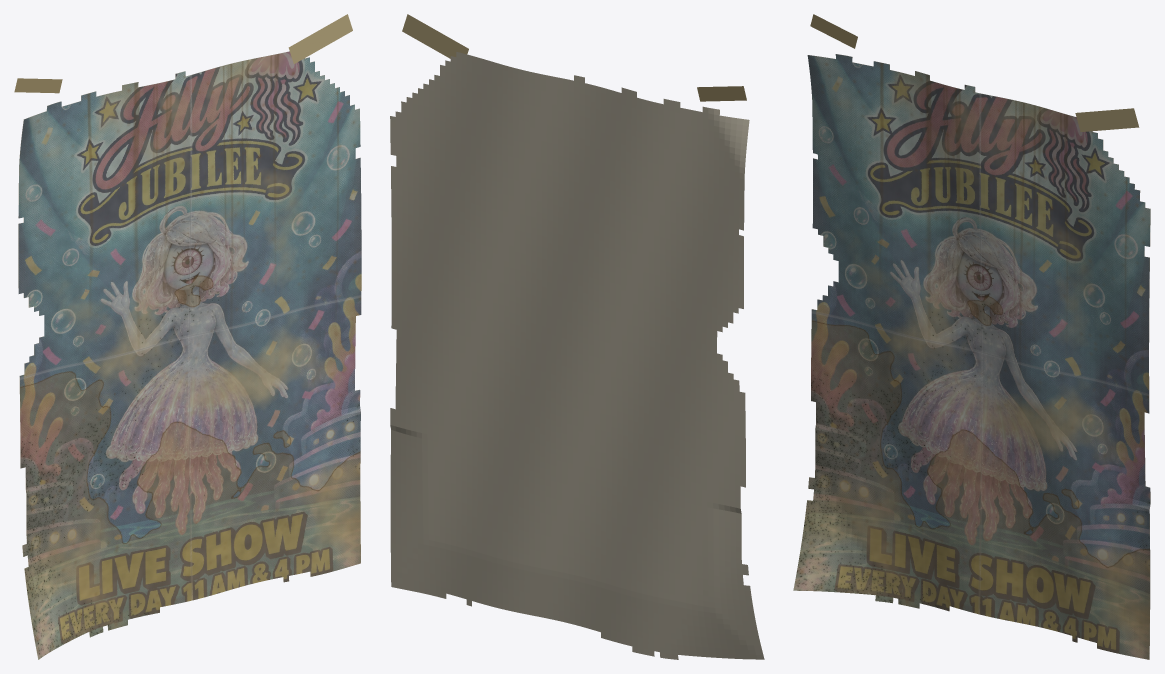
Rendered from manifesto.glb.
3 renders of one model, left to right at view 1: azimuth 30°, elevation 25°; view 2: azimuth 150°, elevation 25°; view 3: azimuth 330°, elevation 25°, orthographic. The views are drawn at different scales.
Visible parts, largest first — view 1: manifesto, Plane, manifesto.001, Plane.001; view 2: manifesto.001, Plane, Plane.001; view 3: manifesto, Plane, manifesto.001, Plane.001.
Part boxes in pixels (<box>): manifesto: <box>18,51,361,659</box>; Plane: <box>288,14,352,63</box>; manifesto.001: <box>18,51,359,659</box>; Plane.001: <box>14,78,62,93</box>; manifesto.001: <box>390,52,764,659</box>; Plane: <box>402,14,468,58</box>; Plane.001: <box>697,86,746,101</box>; manifesto: <box>793,54,1150,659</box>; Plane: <box>1075,108,1139,131</box>; manifesto.001: <box>808,54,1150,659</box>; Plane.001: <box>810,14,857,48</box>.
Bounding box in the file's own units: 0.6667 × 1.06 × 0.0691.
Materials: 4 (1 with a texture image).
